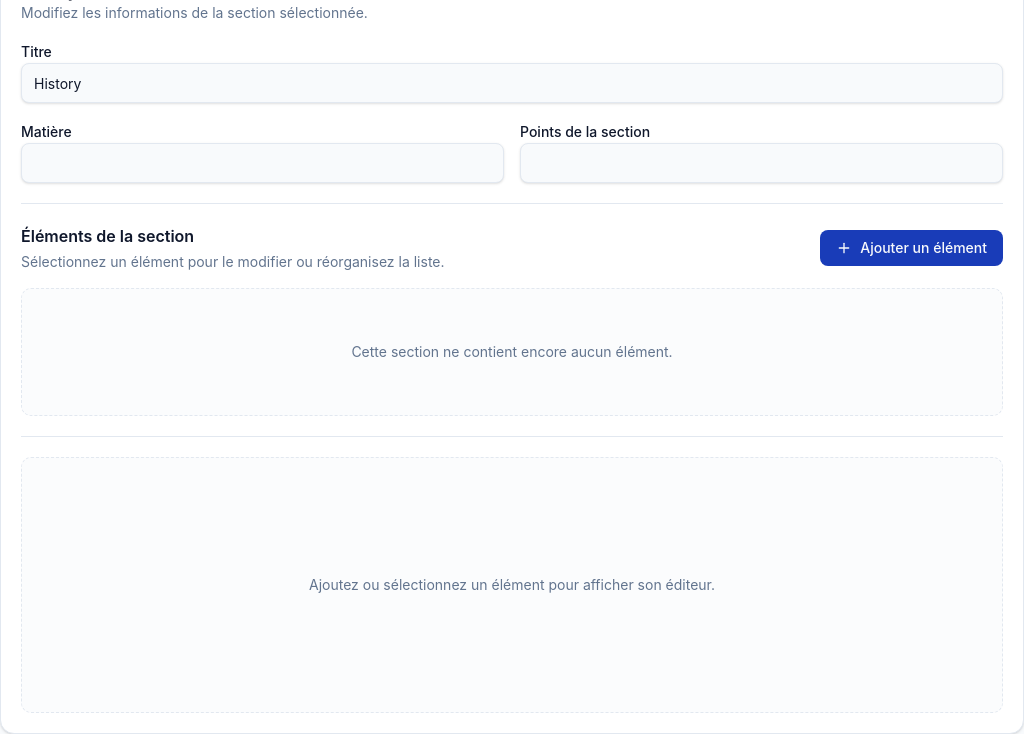
Test: Block CRUD UI › offers all 16 block types and opens the complete Question editor
Click the button "Ajouter un élément" at point(912, 248), box x1=820 y1=230 x2=1003 y2=266
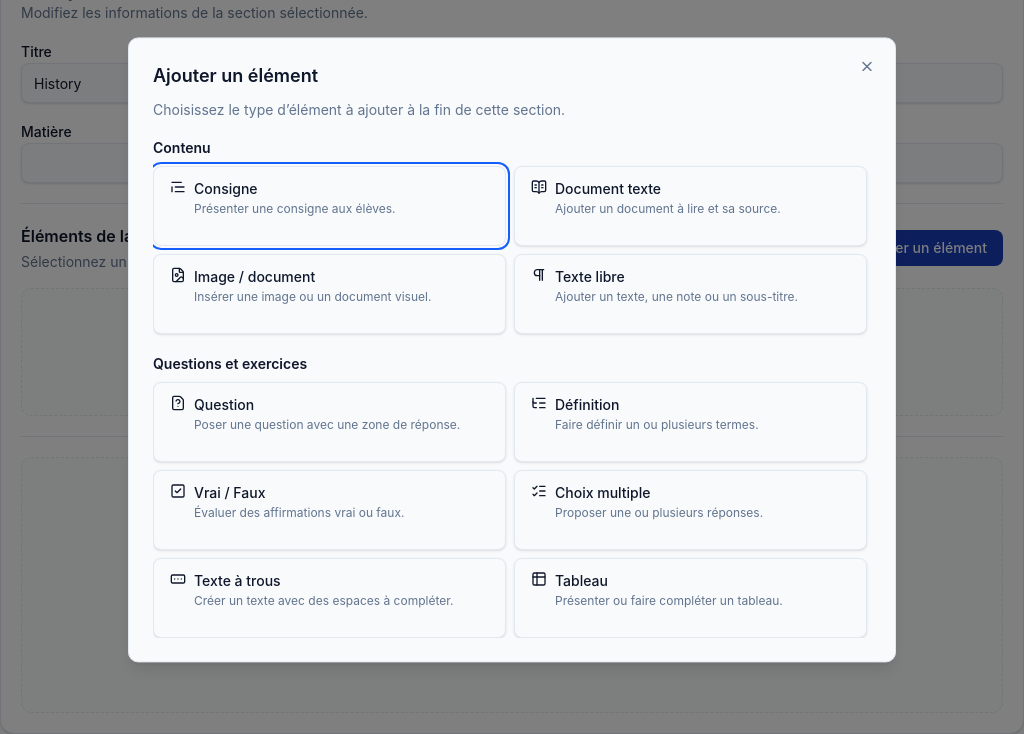
Now the button "Image / document" is enabled, box x1=153 y1=254 x2=506 y2=334
Click the button "Question" at point(330, 422), box x1=153 y1=382 x2=506 y2=462
(page scrolled)
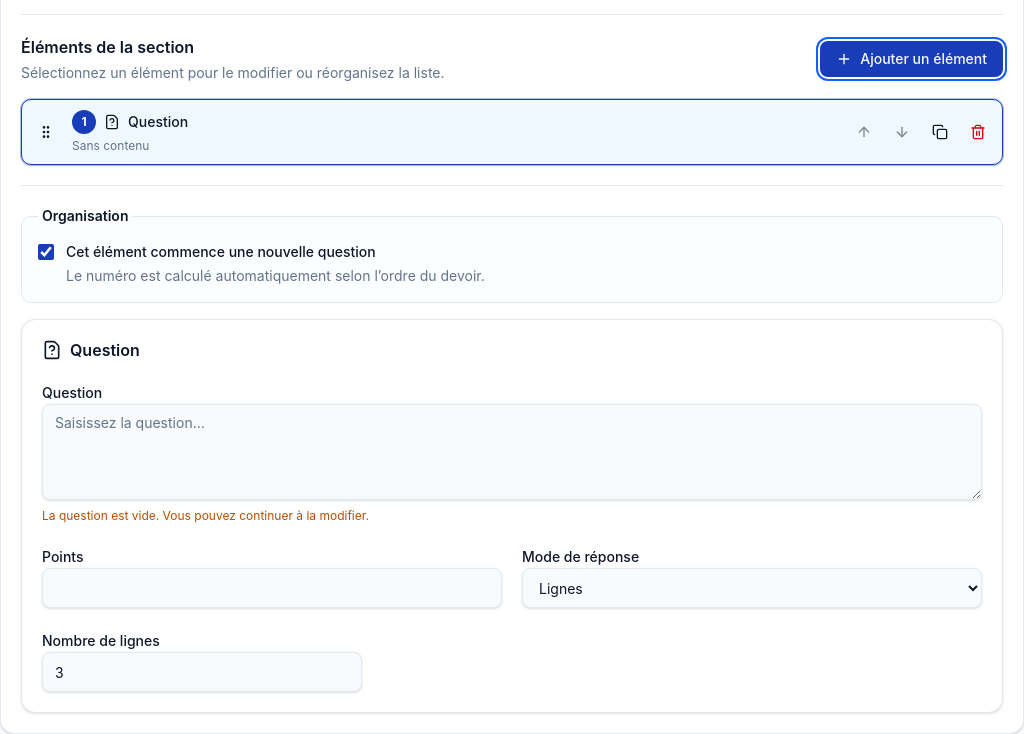
Now the dialog is gone
Now the heading "Question" is shown, box x1=42 y1=340 x2=140 y2=360
Now the text box labelled "Question" is empty, box x1=42 y1=404 x2=982 y2=500
